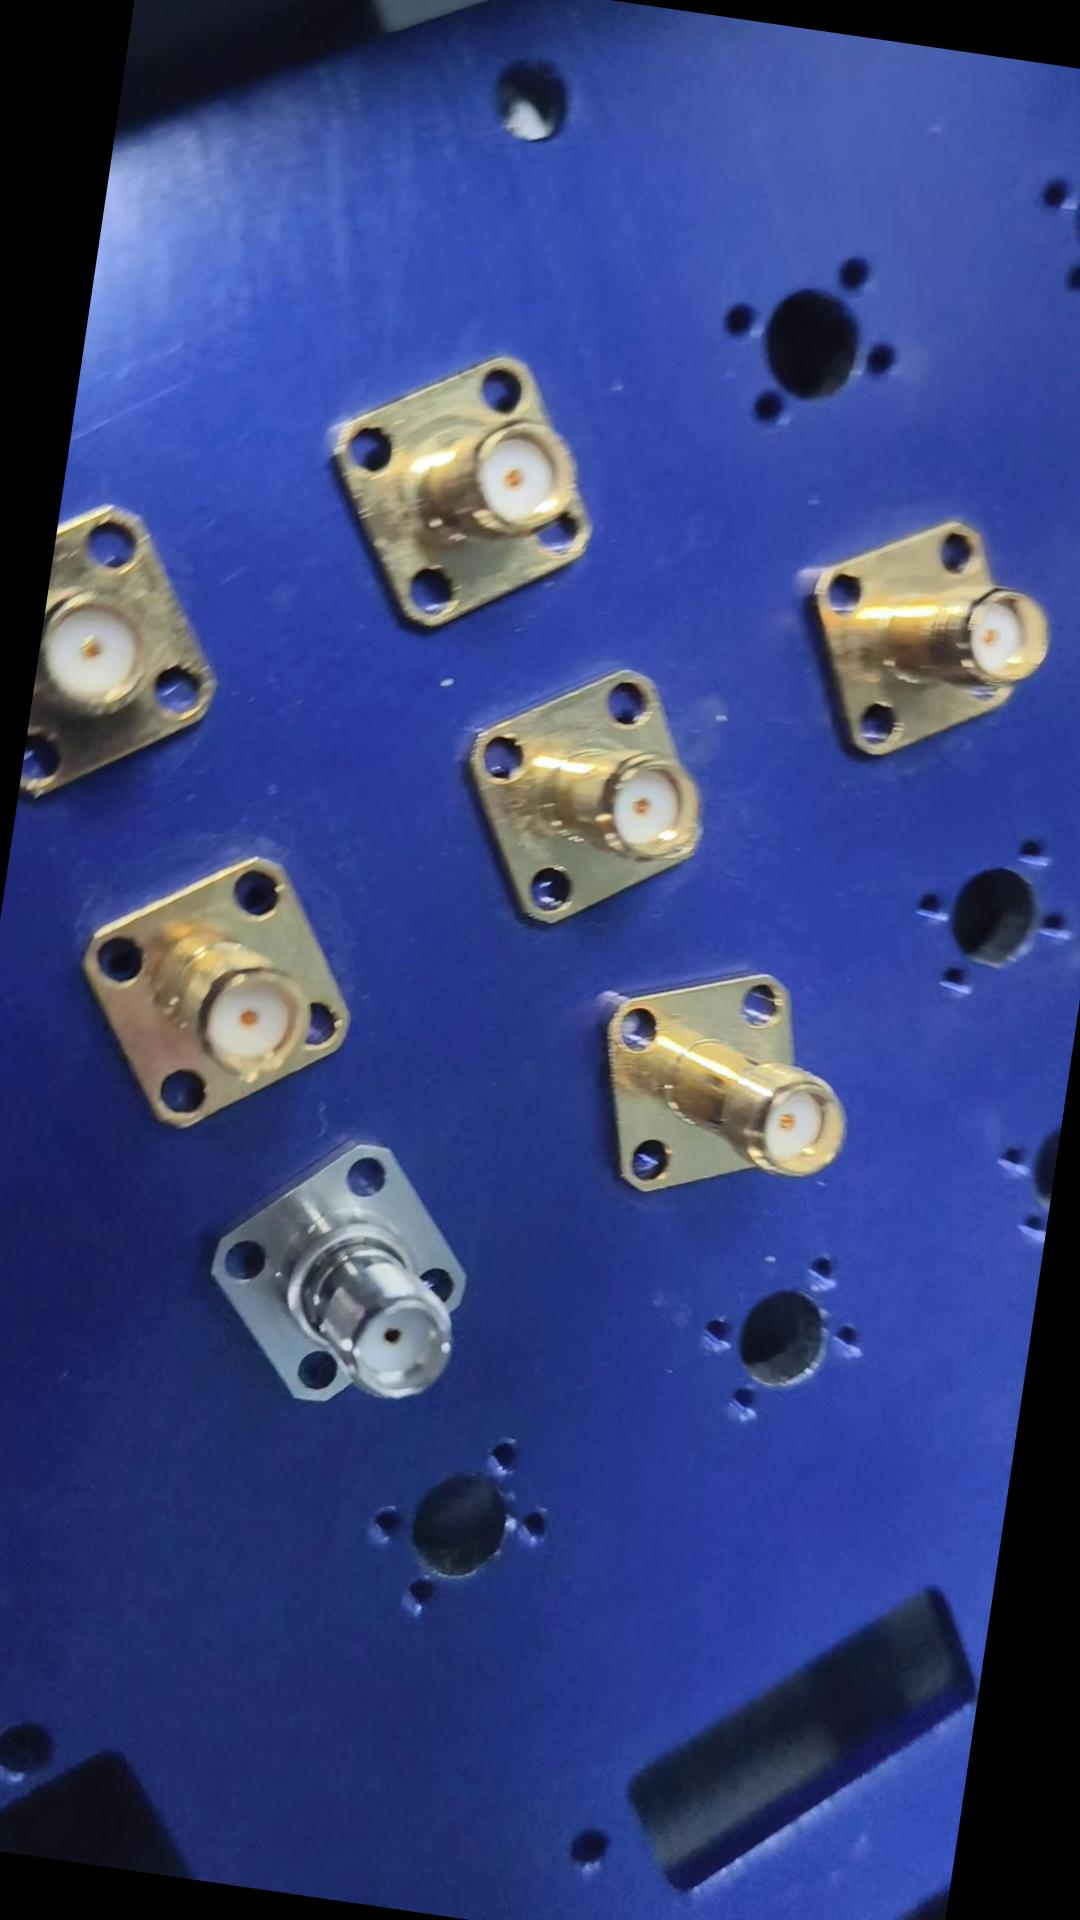SMA: (65, 820, 382, 1153), (195, 1106, 498, 1437), (318, 331, 615, 653), (458, 644, 733, 952), (783, 498, 1063, 790), (582, 953, 874, 1228)
